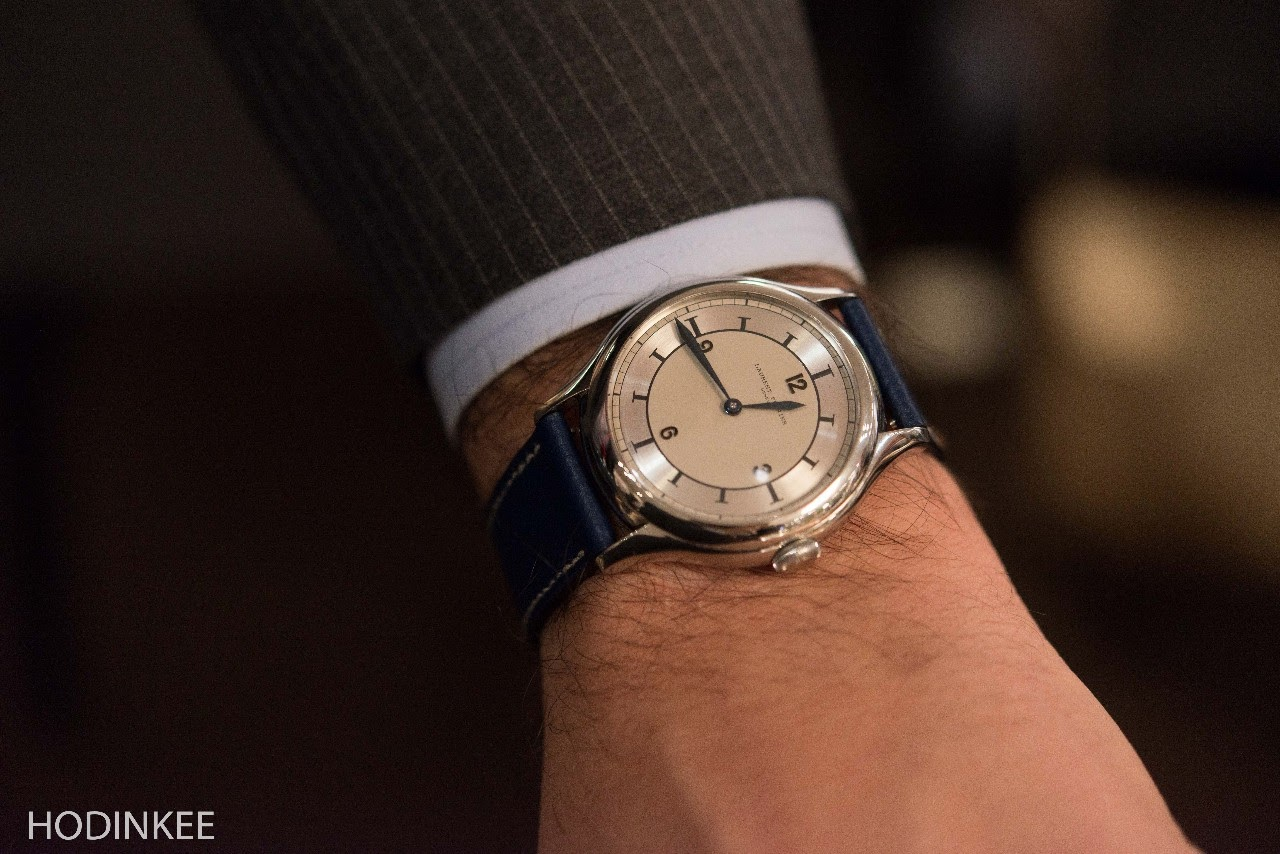clock: (609, 299, 858, 527)
